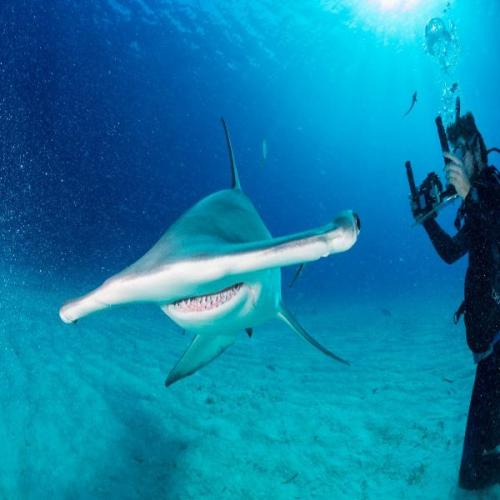shark-endangered: (61, 116, 362, 388)
